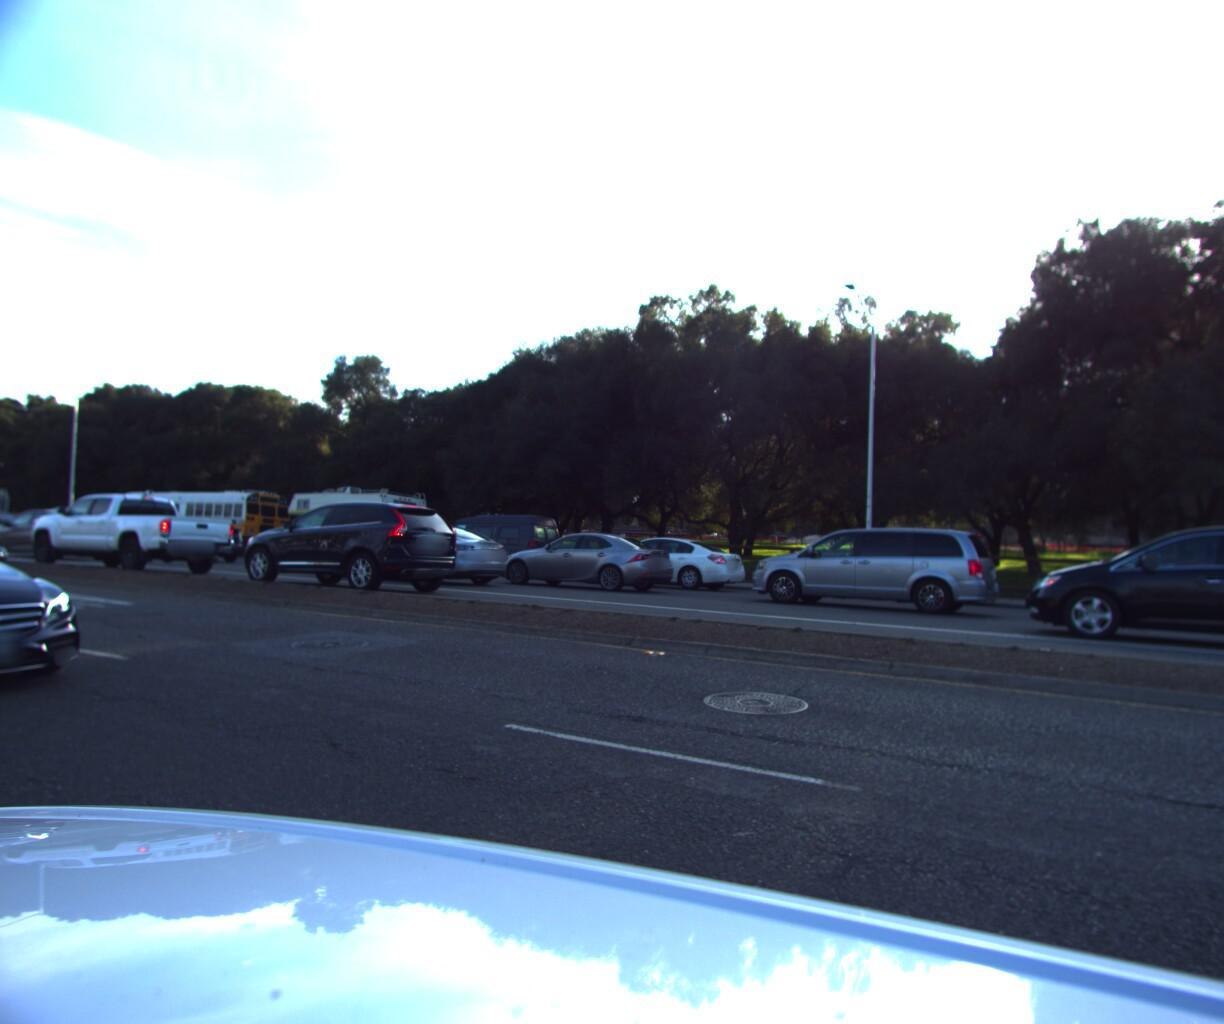bus: (98, 492, 294, 565)
car: (1023, 522, 1224, 677), (222, 498, 469, 607), (742, 523, 1006, 621), (0, 513, 101, 746), (13, 495, 241, 584), (325, 520, 514, 593), (493, 528, 685, 597), (588, 531, 760, 596), (425, 515, 571, 582), (0, 511, 125, 571), (123, 519, 250, 570)
other_vehicle: (280, 488, 432, 573), (0, 488, 14, 544)
